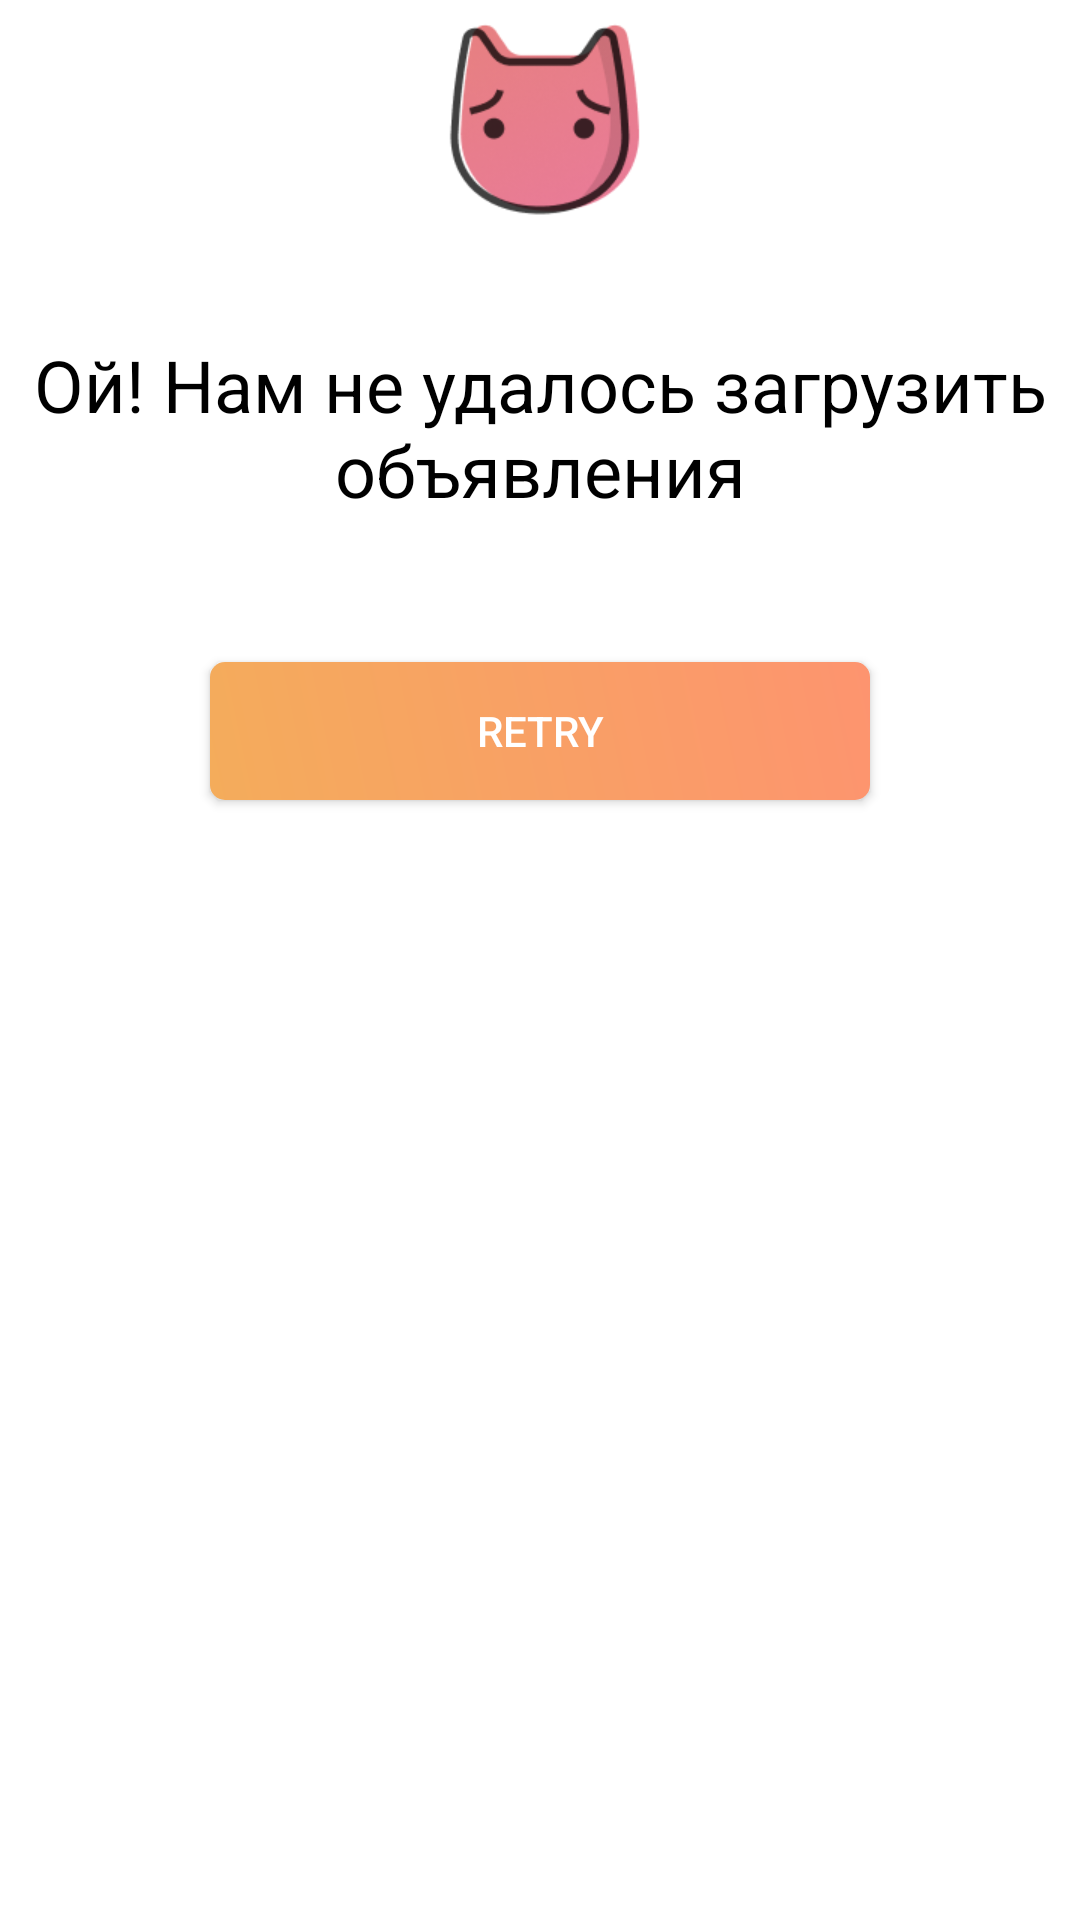

Point at icon controls on the screen. Image size 1080px x 1920px, points as [x,y].
error: [544,120]
